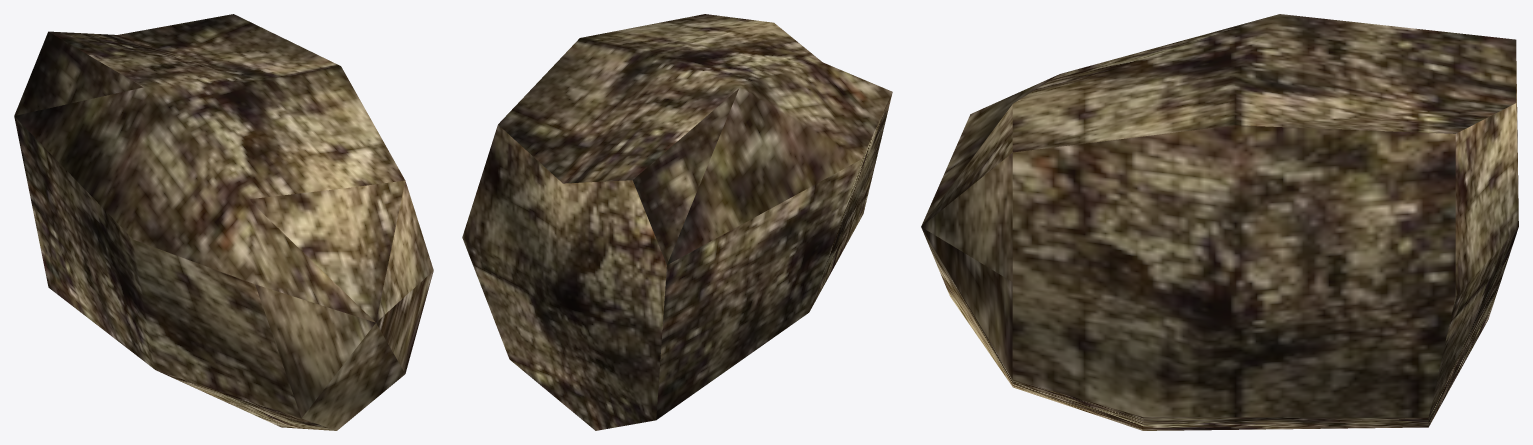
3 renders of one model, left to right at view 1: azimuth 30°, elevation 25°; view 2: azimuth 150°, elevation 25°; view 3: azimuth 270°, elevation 25°, orthographic. The views are drawn at different scales.
Visible parts, largest first — view 1: model_Object81; view 2: model_Object81; view 3: model_Object81.
Boxes of the visible parts, x1,y1,x2,y2 form: model_Object81: [14, 14, 433, 430]; model_Object81: [462, 14, 892, 430]; model_Object81: [921, 14, 1518, 430].
Bounding box in the file's own units: 1.34 × 1.39 × 2.02.
Materials: 1 (1 with a texture image).
